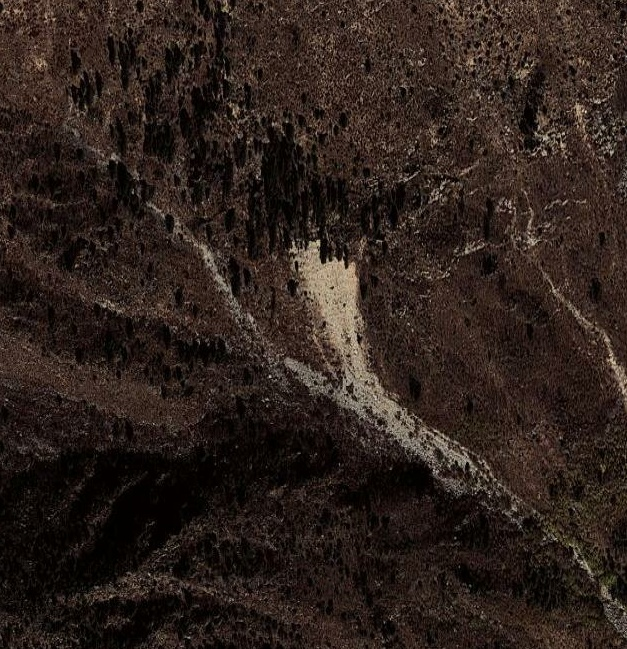slope: (284, 232, 504, 499)
